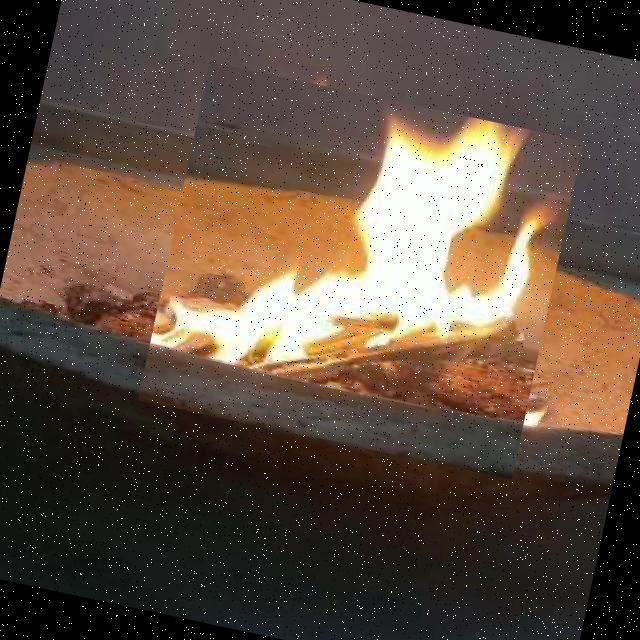fire: (137, 62, 583, 480)
